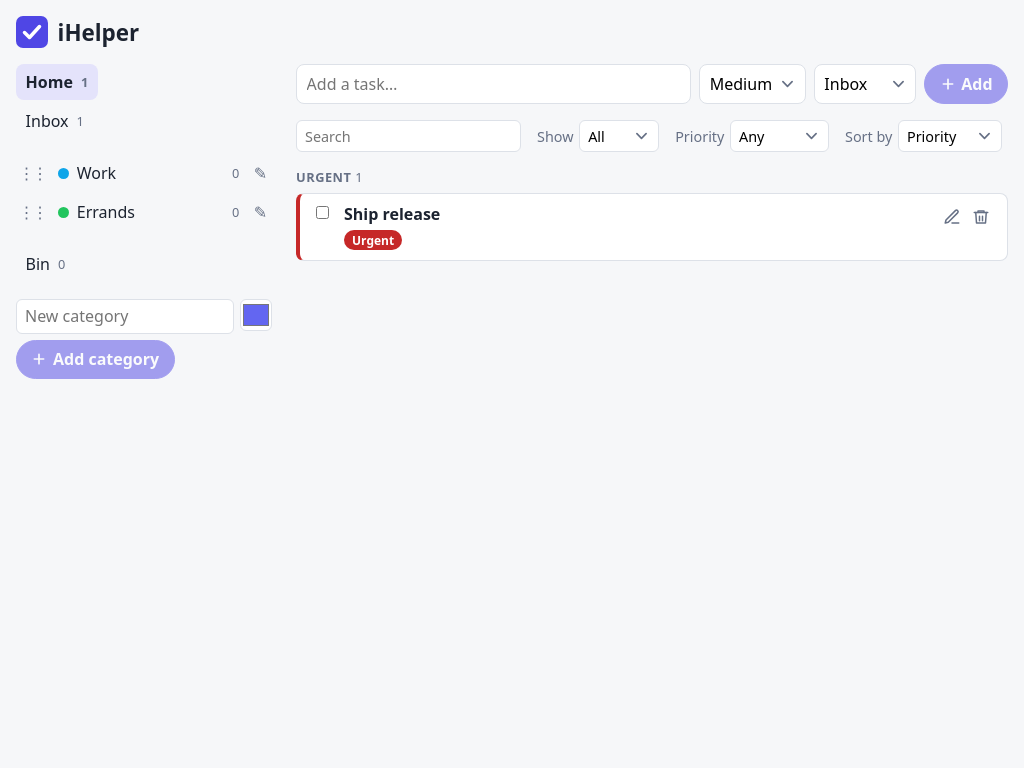
Test case: App › clicking a row expands it with the notes; the edit icon opens the editor
Expected: the button "Ship release" is shown, [344,203,440,225]
Expected: the text "Tag it, then deploy" is not shown
Click the text "Urgent": (373,240) [344,230,402,250]
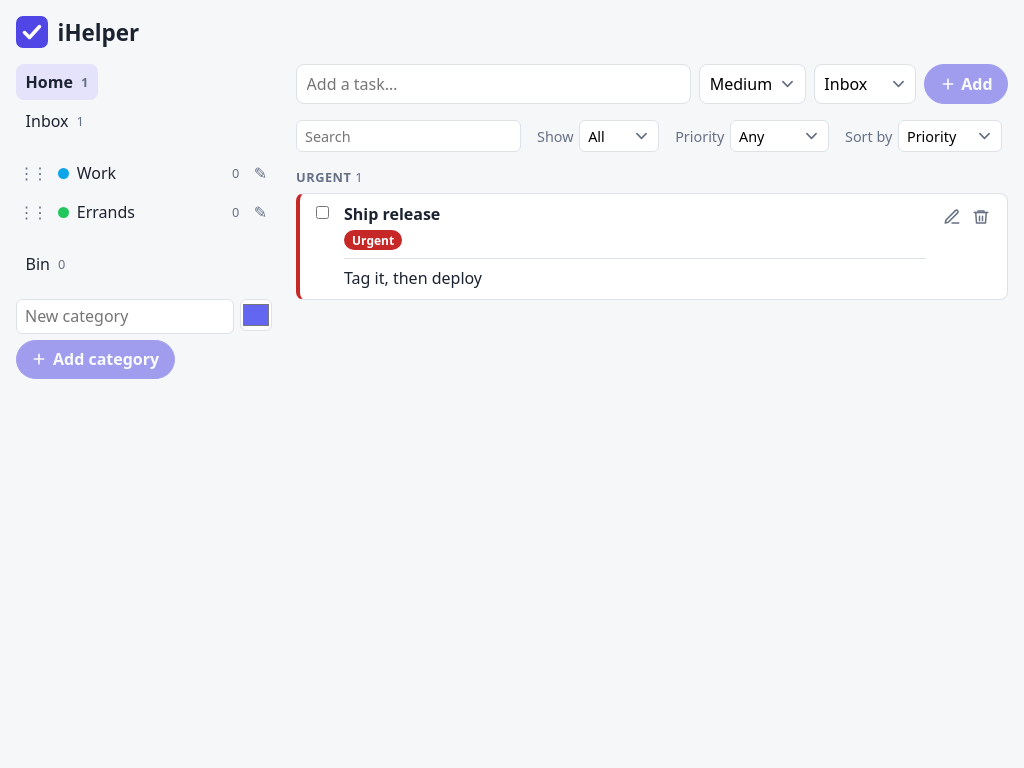
Result: the text "Tag it, then deploy" is shown at [344,267,482,289]
Click the button named "Edit Ship release": (952,217) [938,203,966,231]
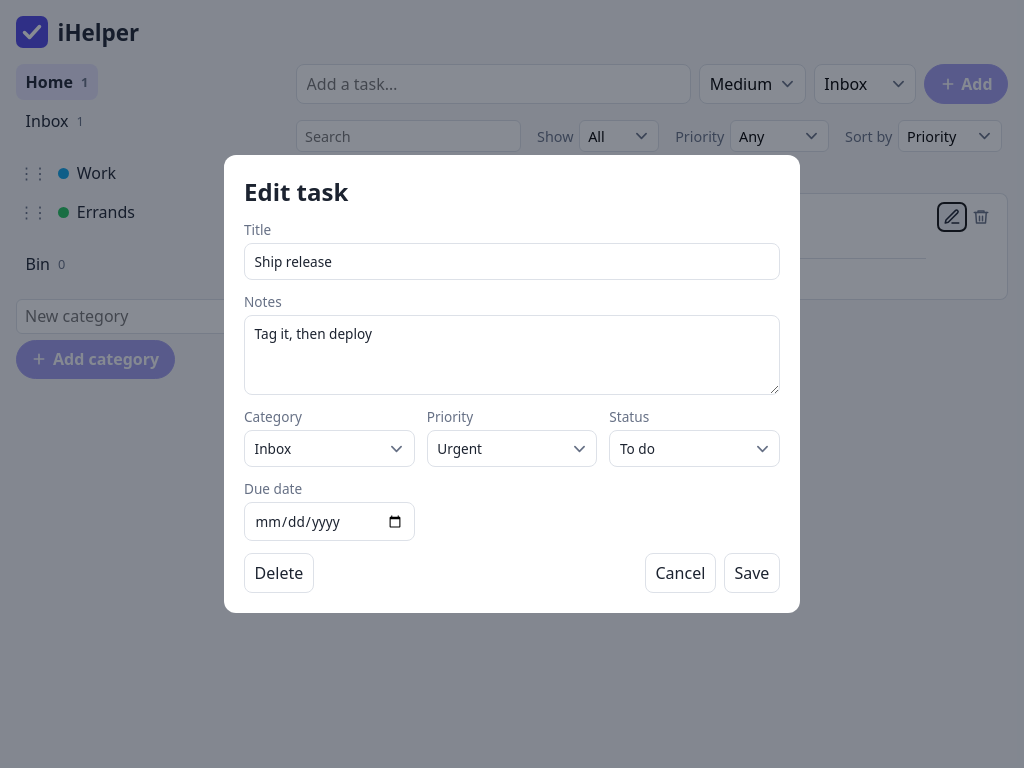
Result: the dialog is shown at [224,155,800,613]
